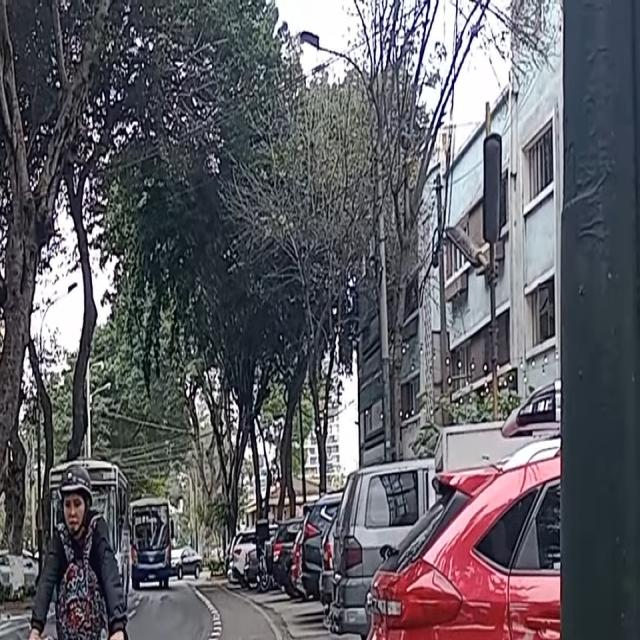bicycle: (28, 631, 126, 640)
bus: (126, 495, 174, 589)
car: (0, 526, 34, 640)
